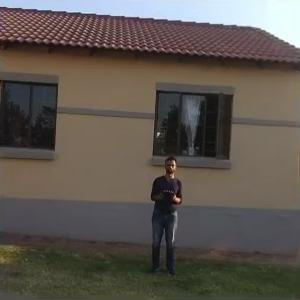follow: (144, 150, 185, 281)
